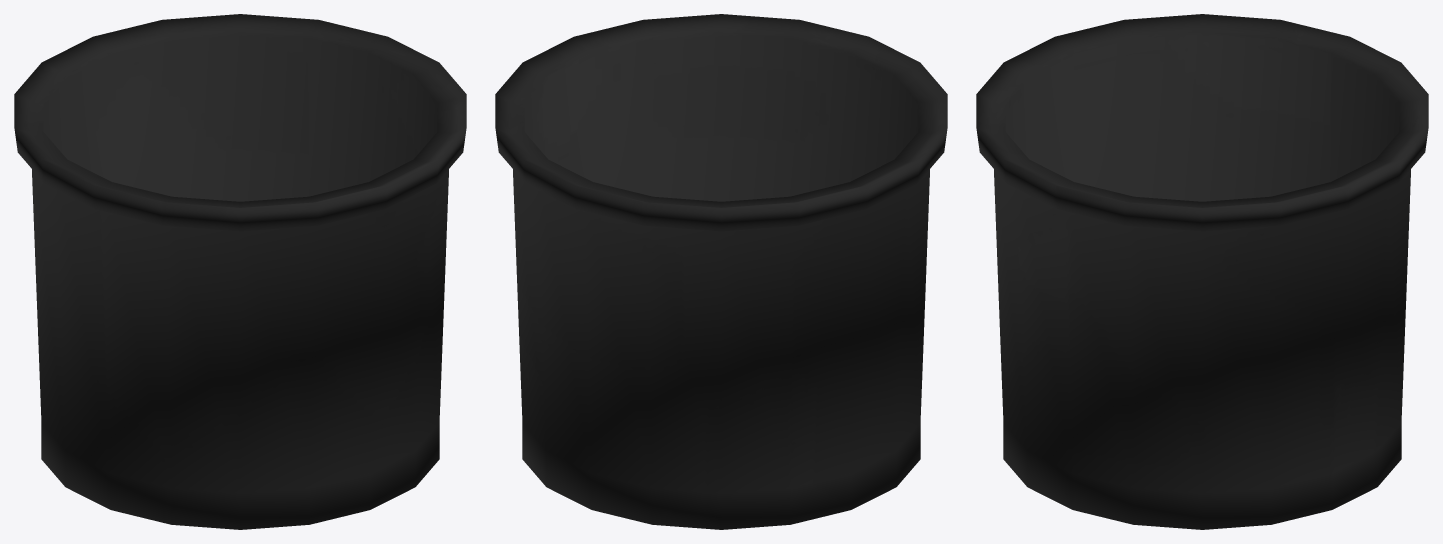
The model's file is Dustbin.fbx.
3 views of the same model, side by side, from view 1: azimuth 30°, elevation 25°; view 2: azimuth 150°, elevation 25°; view 3: azimuth 270°, elevation 25° (orthographic).
Visible parts, largest first — view 1: Dustbin; view 2: Dustbin; view 3: Dustbin.
Boxes of the visible parts, box(x1,y1,x2,y2) form: Dustbin: box(14, 14, 466, 529); Dustbin: box(495, 14, 947, 529); Dustbin: box(976, 14, 1428, 529).
Size of the model in its own units: 11.36 by 11.19 by 9.1.
Materials: 1 (1 with a texture image).
